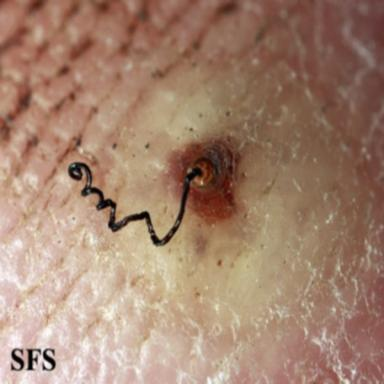Tungiasis: (67, 63, 370, 319)
